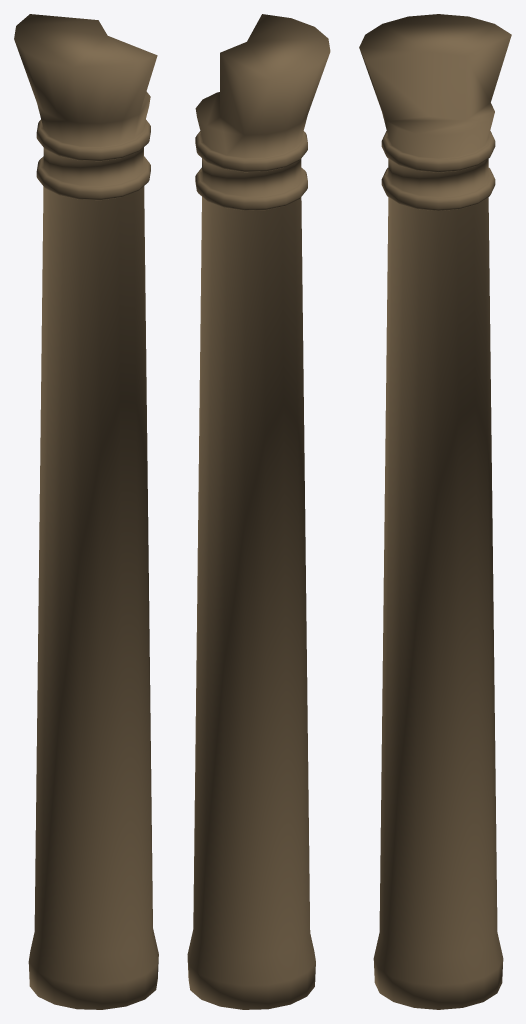
File: Pillar.02.glb
The picture shows the model from 3 angles, left to right: view 1: azimuth 30°, elevation 25°; view 2: azimuth 150°, elevation 25°; view 3: azimuth 270°, elevation 25°; orthographic projection.
Visible parts, largest first — view 1: Pillar.02; view 2: Pillar.02; view 3: Pillar.02.
Boxes of the visible parts, bbox=[...] form: Pillar.02: bbox=[14, 14, 158, 1009]; Pillar.02: bbox=[187, 14, 330, 1009]; Pillar.02: bbox=[359, 14, 511, 1009].
Size of the model in its own units: 0.5094 by 3.65 by 0.5396.
